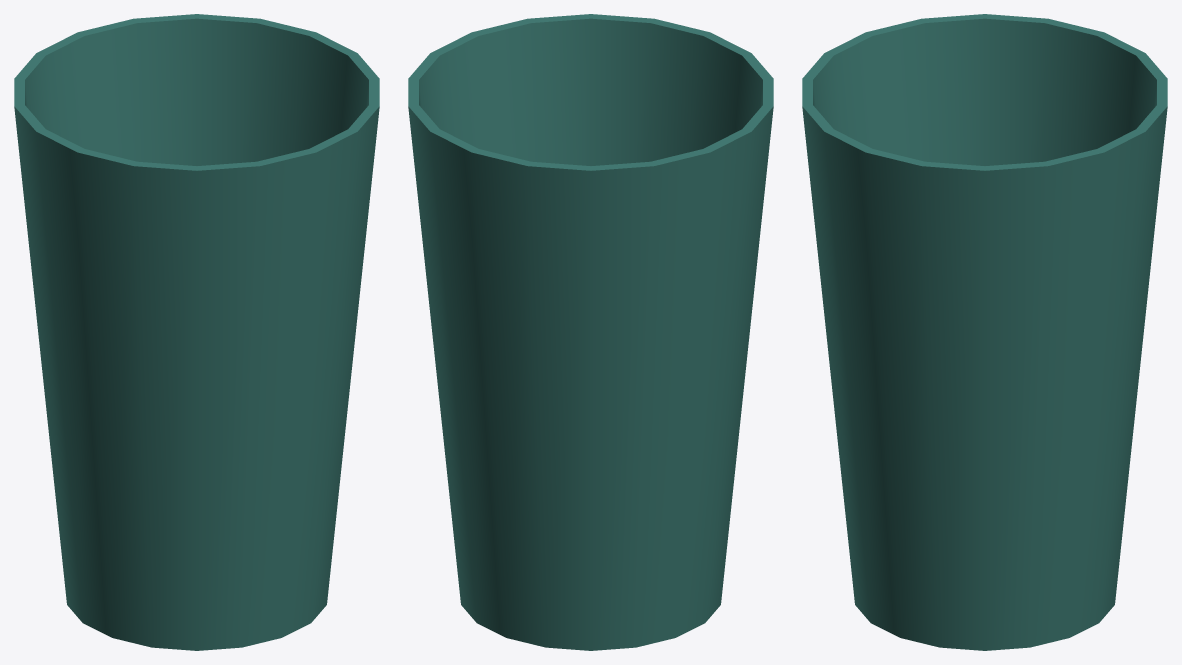
File: SM_Glass.fbx
3 renders of one model, left to right at view 1: azimuth 30°, elevation 25°; view 2: azimuth 150°, elevation 25°; view 3: azimuth 270°, elevation 25°, orthographic.
Parts seen in each view (by area): view 1: SM_Glass; view 2: SM_Glass; view 3: SM_Glass.
Part boxes in pixels (box(x1,y1,x2,y2)): SM_Glass: box(14, 14, 379, 650); SM_Glass: box(408, 14, 773, 650); SM_Glass: box(802, 14, 1167, 650).
Bounding box in the file's own units: 8 × 11.96 × 7.88.
